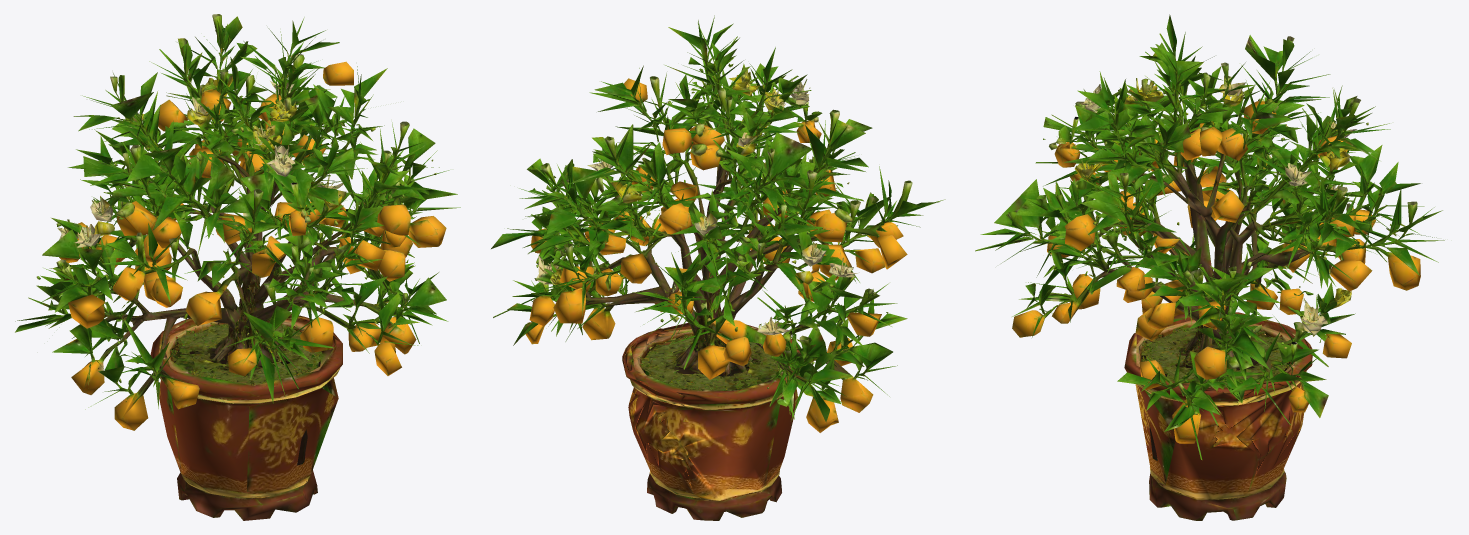
File: kumquat.glb
3 renders of one model, left to right at view 1: azimuth 30°, elevation 25°; view 2: azimuth 150°, elevation 25°; view 3: azimuth 270°, elevation 25°, orthographic. The views are drawn at different scales.
Parts seen in each view (by area): view 1: geometry_0; view 2: geometry_0; view 3: geometry_0.
Part boxes in pixels (box(x1,y1,x2,y2)): geometry_0: box(15, 14, 460, 520); geometry_0: box(491, 15, 945, 520); geometry_0: box(975, 14, 1444, 520).
Bounding box in the file's own units: 0.9311 × 0.9968 × 0.9368.
Materials: 1 (1 with a texture image).
